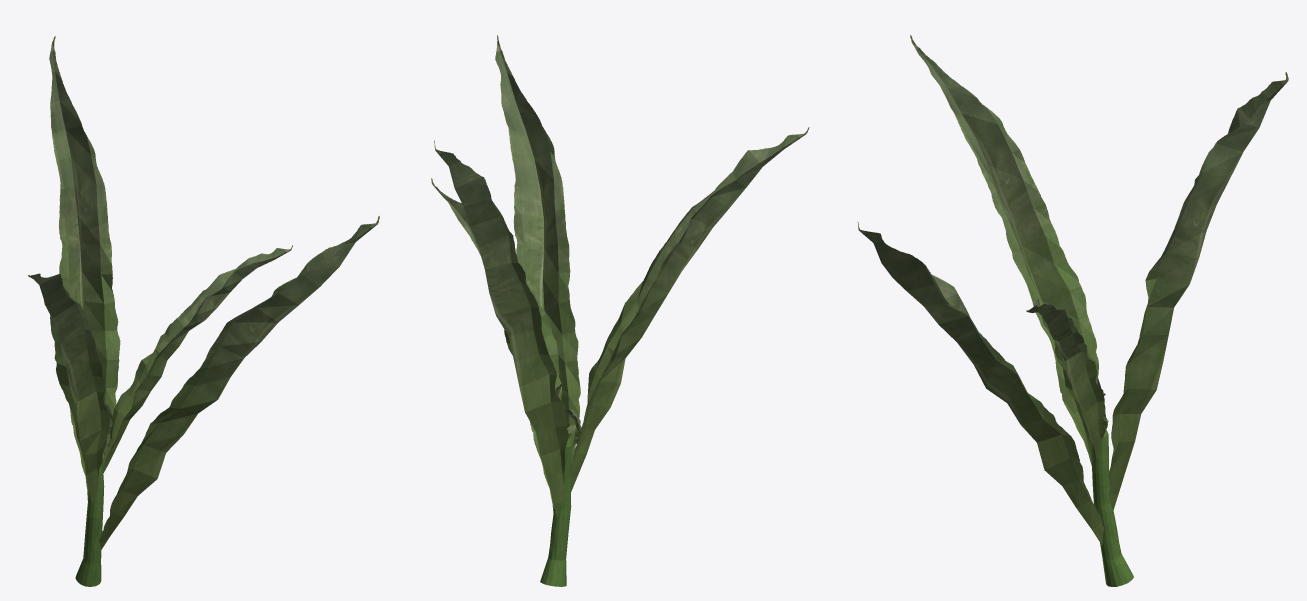
File: sorghum_variant_0.dae
The picture shows the model from 3 angles, left to right: view 1: azimuth 30°, elevation 25°; view 2: azimuth 150°, elevation 25°; view 3: azimuth 270°, elevation 25°; orthographic projection. The views are drawn at different scales.
Visible parts, largest first — view 1: Leaves, Stem; view 2: Leaves, Stem; view 3: Leaves, Stem.
Boxes of the visible parts, x1=… form: Leaves: x1=28, y1=36, x2=379, y2=550; Stem: x1=75, y1=456, x2=104, y2=586; Leaves: x1=431, y1=35, x2=809, y2=516; Stem: x1=540, y1=438, x2=571, y2=586; Leaves: x1=857, y1=35, x2=1288, y2=545; Stem: x1=1092, y1=428, x2=1133, y2=586.
Bounding box in the file's own units: 0.1974 × 0.1953 × 0.2715.
